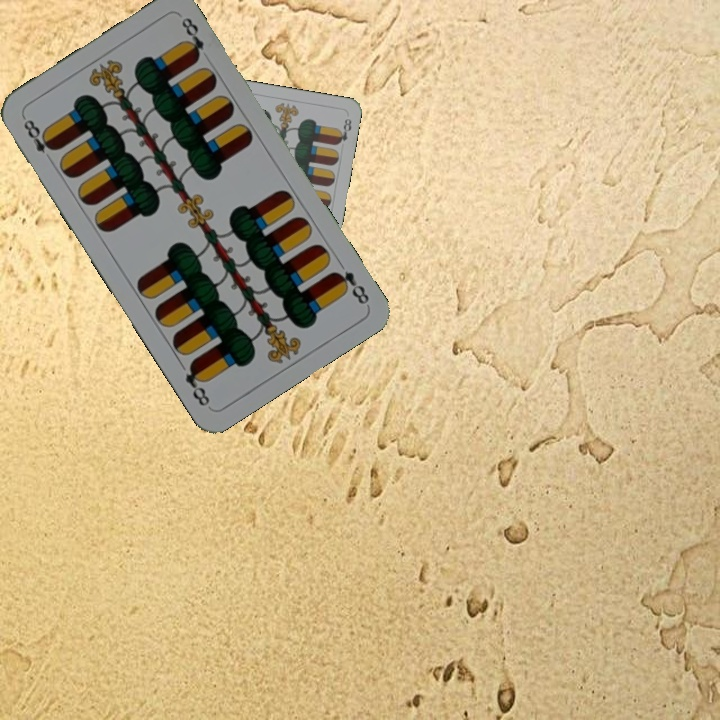E8: (328, 266, 372, 307), (19, 113, 59, 157)
